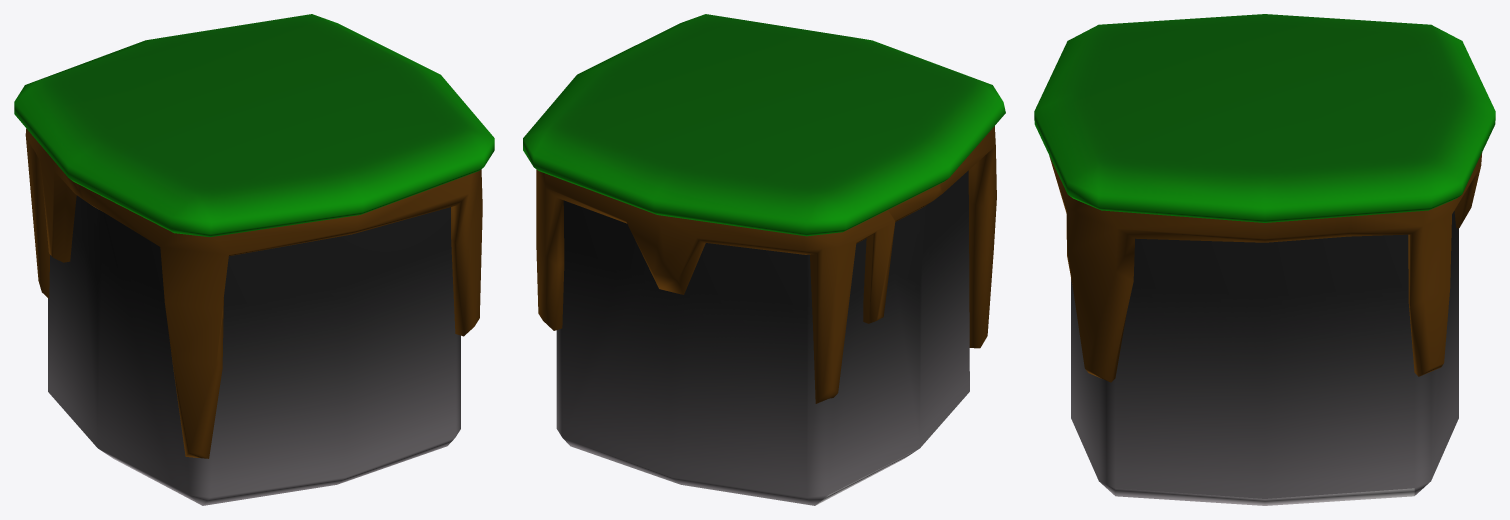
Rendered from rock_support.fbx.
3 views of the same model, side by side, from view 1: azimuth 30°, elevation 25°; view 2: azimuth 150°, elevation 25°; view 3: azimuth 270°, elevation 25° (orthographic). The views are drawn at different scales.
Visible parts, largest first — view 1: rock_support; view 2: rock_support; view 3: rock_support.
Boxes of the visible parts, x1,y1,x2,y2 form: rock_support: (14, 14, 494, 505); rock_support: (523, 14, 1005, 505); rock_support: (1034, 14, 1495, 505).
Bounding box in the file's own units: 616 × 505 × 625.
